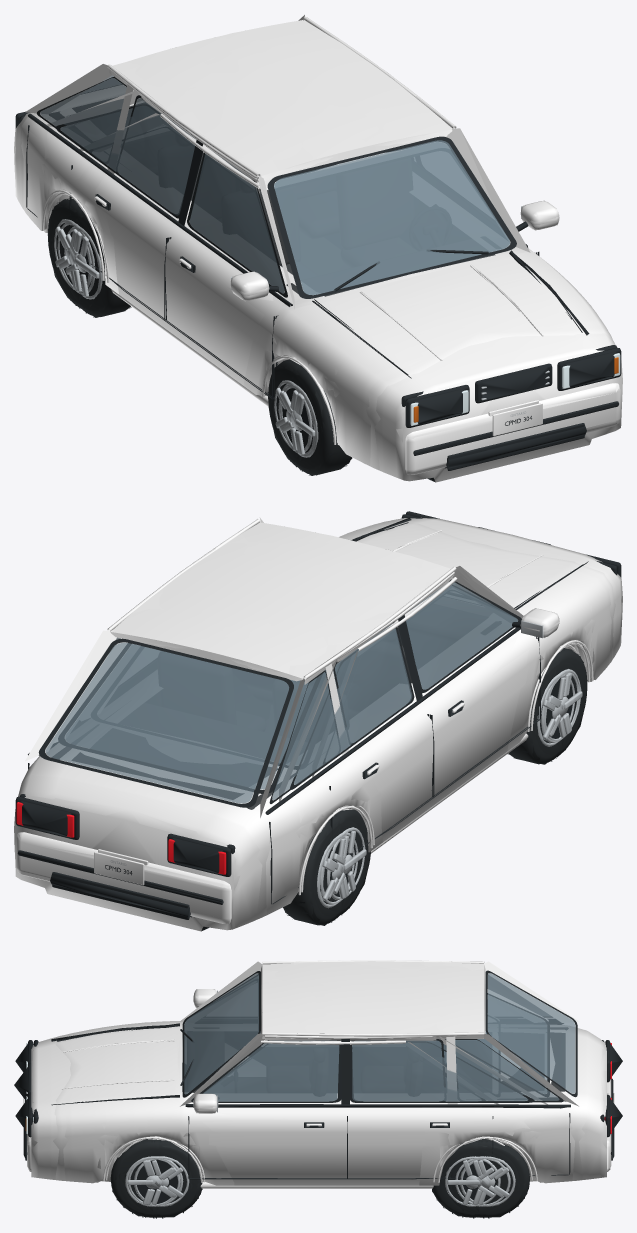
File: traffic-cars.glb
3 renders of one model, top to bottom at view 1: azimuth 30°, elevation 25°; view 2: azimuth 150°, elevation 25°; view 3: azimuth 270°, elevation 25°, orthographic. The views are drawn at different scales.
Parts seen in each view (by area): view 1: Body.004__Car_Paint_wagon, Body.004__Car_Glass, Body.004__Car_Glass.001, Body.004__Car_Paint_wagon.001, Body.004__Car_Trim, Body.004__Car_Trim.001, Body.002__Car_Glass, Body__Car_Paint_sedan, Body.002__Car_Glass.001, Body__Car_Trim, Wheel_FL.004__Car_Rubber, Body.002__Car_Paint_hatchback (+14 smaller); view 2: Body.004__Car_Paint_wagon, Body.004__Car_Glass, Body.004__Car_Glass.001, Body.004__Car_Paint_wagon.001, Body.004__Car_Trim, Body.004__Car_Trim.001, Body.002__Car_Glass, Body.002__Car_Glass.001, Body.002__Car_Paint_hatchback, Body.002__Car_Trim, Body__Car_Paint_sedan, Wheel_FL.004__Car_Rubber.002 (+15 smaller); view 3: Body.004__Car_Paint_wagon, Body.004__Car_Glass, Body.004__Car_Glass.001, Body.004__Car_Paint_wagon.001, Body.004__Car_Trim, Body.002__Car_Glass, Body.002__Car_Glass.001, Body.004__Car_Trim.001, Body__Car_Paint_sedan, Body.002__Car_Paint_hatchback, Body.002__Car_Trim, Wheel_FL.004__Car_Rubber.003 (+17 smaller).
Part boxes in pixels (box(x1,y1,x2,y2)): Body.004__Car_Paint_wagon: box(14, 15, 622, 482); Body.004__Car_Glass: box(40, 76, 509, 294); Body.004__Car_Glass.001: box(40, 75, 509, 294); Body.004__Car_Paint_wagon.001: box(14, 17, 622, 482); Body.004__Car_Trim: box(15, 76, 621, 470); Body.004__Car_Trim.001: box(27, 114, 618, 469); Body.002__Car_Glass: box(61, 108, 314, 294); Body__Car_Paint_sedan: box(44, 91, 559, 434); Body.002__Car_Glass.001: box(61, 108, 491, 292); Body__Car_Trim: box(19, 115, 616, 468); Wheel_FL.004__Car_Rubber: box(276, 368, 351, 475); Body.002__Car_Paint_hatchback: box(46, 90, 497, 444); Body.004__Car_Paint_wagon: box(14, 517, 622, 931); Body.004__Car_Glass: box(46, 583, 517, 803); Body.004__Car_Glass.001: box(46, 582, 517, 803); Body.004__Car_Paint_wagon.001: box(14, 517, 622, 931); Body.004__Car_Trim: box(15, 511, 621, 919); Body.004__Car_Trim.001: box(17, 517, 588, 918); Body.002__Car_Glass: box(133, 613, 516, 789); Body.002__Car_Glass.001: box(161, 651, 418, 789); Body.002__Car_Paint_hatchback: box(54, 570, 579, 840); Body.002__Car_Trim: box(58, 585, 539, 793); Body__Car_Paint_sedan: box(114, 532, 591, 892); Wheel_FL.004__Car_Rubber.002: box(283, 819, 360, 925); Body.004__Car_Paint_wagon: box(27, 960, 611, 1188); Body.004__Car_Glass: box(184, 973, 574, 1100); Body.004__Car_Glass.001: box(184, 973, 574, 1100); Body.004__Car_Paint_wagon.001: box(27, 960, 611, 1185); Body.004__Car_Trim: box(25, 970, 612, 1179); Body.002__Car_Glass: box(185, 1001, 546, 1100); Body.002__Car_Glass.001: box(187, 999, 546, 1100); Body.004__Car_Trim.001: box(14, 1019, 622, 1179); Body__Car_Paint_sedan: box(67, 989, 542, 1182); Body.002__Car_Paint_hatchback: box(102, 989, 554, 1181); Body.002__Car_Trim: box(127, 974, 549, 1174); Wheel_FL.004__Car_Rubber.003: box(451, 1136, 529, 1217).
Size of the model in its own units: 2.17 by 1.56 by 4.84.
